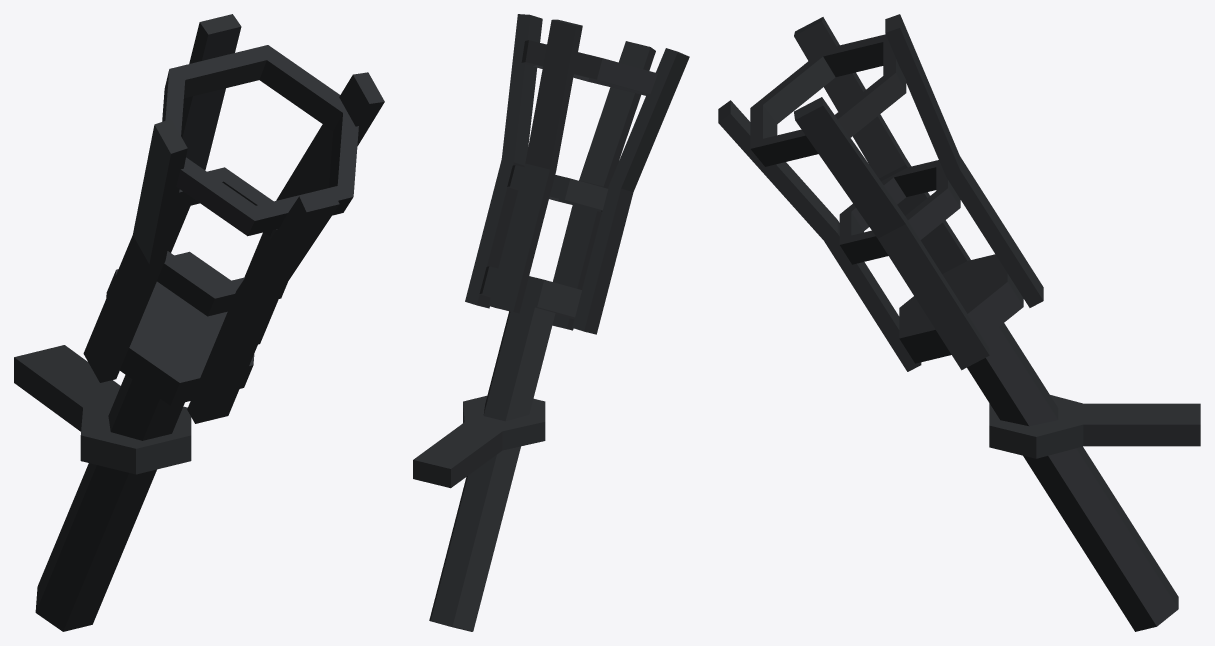
The model's file is forge_torch.gltf.
3 renders of one model, left to right at view 1: azimuth 30°, elevation 25°; view 2: azimuth 150°, elevation 25°; view 3: azimuth 270°, elevation 25°, orthographic. The views are drawn at different scales.
Visible parts, largest first — view 1: forge_torch; view 2: forge_torch; view 3: forge_torch.
Boxes of the visible parts, <box> form: forge_torch: <box>14,14,384,631</box>; forge_torch: <box>413,14,689,631</box>; forge_torch: <box>718,14,1200,631</box>.
Bounding box in the file's own units: 0.2468 × 0.7845 × 0.5671.
Materials: 1 (1 with a texture image).
